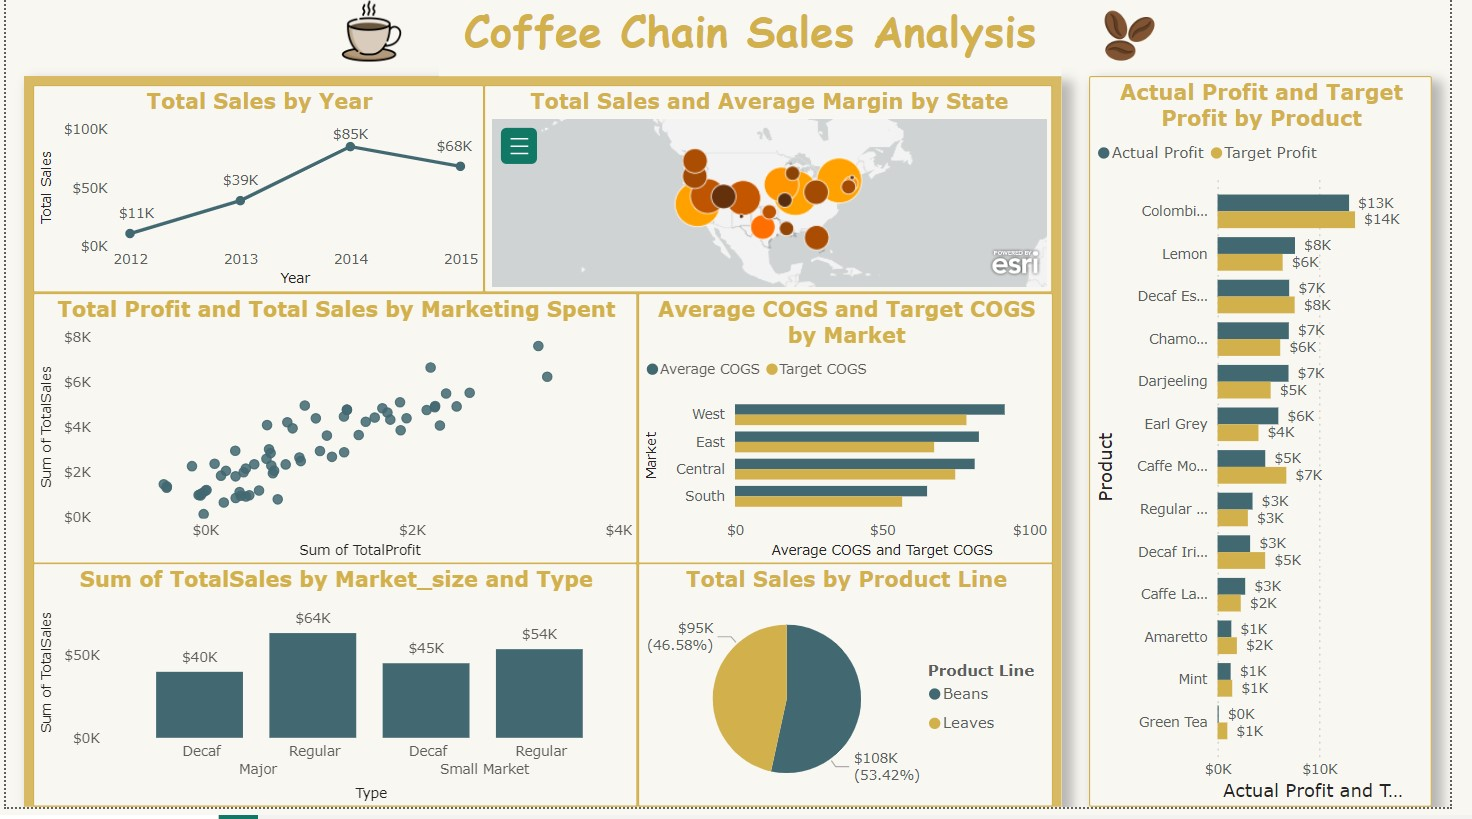

This screenshot's page, from the dashboard's own definition file:
{"tool":"powerbi","page":{"name":"Coffee Chain Sales Analysis Dashboard","canvas":[1280,720],"ordinal":0},"visuals":[{"type":"textbox","box":[16,72,920,648],"z":0},{"type":"lineChart","fields":{"Category":["SalesTrendsOverTime.Month.Variation.Date Hierarchy.Year","SalesTrendsOverTime.Month.Variation.Date Hierarchy.Month"],"Y":["Sum(SalesTrendsOverTime.TotalSales)"]},"box":[24,80,400,184],"z":1000},{"type":"esriVisual","fields":{"Location":["MarketPerformance.State"],"Size":["Sum(MarketPerformance.TotalSales)"],"Color":["Sum(MarketPerformance.AverageMargin)"]},"box":[424,80,504,184],"z":2000},{"type":"clusteredBarChart","fields":{"Category":["ProfitabilityAnalysis.Product"],"Y":["Sum(ProfitabilityAnalysis.ActualProfit)","Sum(ProfitabilityAnalysis.TargetProfit)"]},"box":[960,72,304,648],"z":3000},{"type":"pieChart","fields":{"Category":["ProductLinePerformance.Product_line"],"Y":["Sum(ProductLinePerformance.TotalSales)"]},"box":[560,504,368,216],"z":4000},{"type":"clusteredBarChart","fields":{"Category":["COGSAnalysis.Market"],"Y":["Sum(COGSAnalysis.AverageCOGS)","Sum(COGSAnalysis.TargetCOGS)"]},"box":[560,264,368,240],"z":5000},{"type":"scatterChart","title":"Total Profit and Total Sales by Marketing Spent","fields":{"Category":["MarketingSpendEfficiency.Marketing"],"X":["Sum(MarketingSpendEfficiency.TotalProfit)"],"Y":["Sum(MarketingSpendEfficiency.TotalSales)"]},"box":[24,264,536,240],"z":6000},{"type":"clusteredColumnChart","fields":{"Category":["TypeOfCoffeeandMarketSize.Market_size","TypeOfCoffeeandMarketSize.Type"],"Y":["Sum(TypeOfCoffeeandMarketSize.TotalSales)"]},"box":[24,504,536,216],"z":7000},{"type":"textbox","box":[384,0,552,72],"z":8000},{"type":"image","box":[968,8,56,56],"z":8001},{"type":"image","box":[288,0,72,64],"z":8002}]}

Visuals, with their boxes in screenshot pixels (x1, y1, x2, y2), scaled from the page's 1280x720 canvas onto the 1472x819 screenshot:
textbox: rect(18, 82, 1076, 818)
lineChart - SalesTrendsOverTime.Month.Variation.Date Hierarchy.Year x SalesTrendsOverTime.Month.Variation.Date Hierarchy.Month: rect(28, 91, 488, 300)
esriVisual - MarketPerformance.State x Sum(MarketPerformance.TotalSales): rect(488, 91, 1067, 300)
clusteredBarChart - ProfitabilityAnalysis.Product x Sum(ProfitabilityAnalysis.ActualProfit): rect(1104, 82, 1454, 818)
pieChart - ProductLinePerformance.Product_line x Sum(ProductLinePerformance.TotalSales): rect(644, 573, 1067, 818)
clusteredBarChart - COGSAnalysis.Market x Sum(COGSAnalysis.AverageCOGS): rect(644, 300, 1067, 573)
"Total Profit and Total Sales by Marketing Spent" scatterChart: rect(28, 300, 644, 573)
clusteredColumnChart - TypeOfCoffeeandMarketSize.Market_size x TypeOfCoffeeandMarketSize.Type: rect(28, 573, 644, 818)
textbox: rect(442, 0, 1076, 82)
image: rect(1113, 9, 1178, 73)
image: rect(331, 0, 414, 73)
